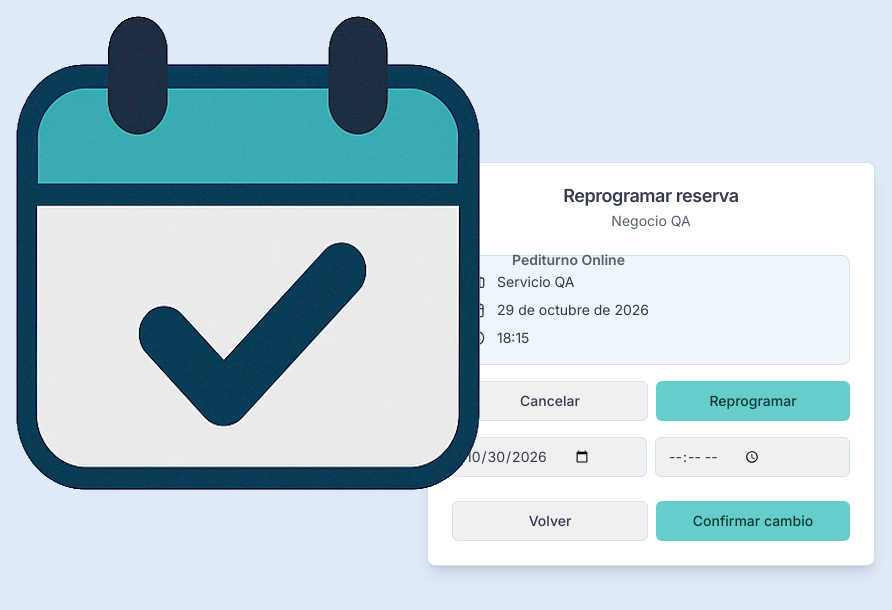
public appointment actions › keeps the requested reschedule and explains an occupied slot in Spanish
The image size is (892, 610).
Earlier steps of the test are not shown.
Type "18:15" into the time field named "Nueva hora" at (752, 457), box [655,437,850,477]
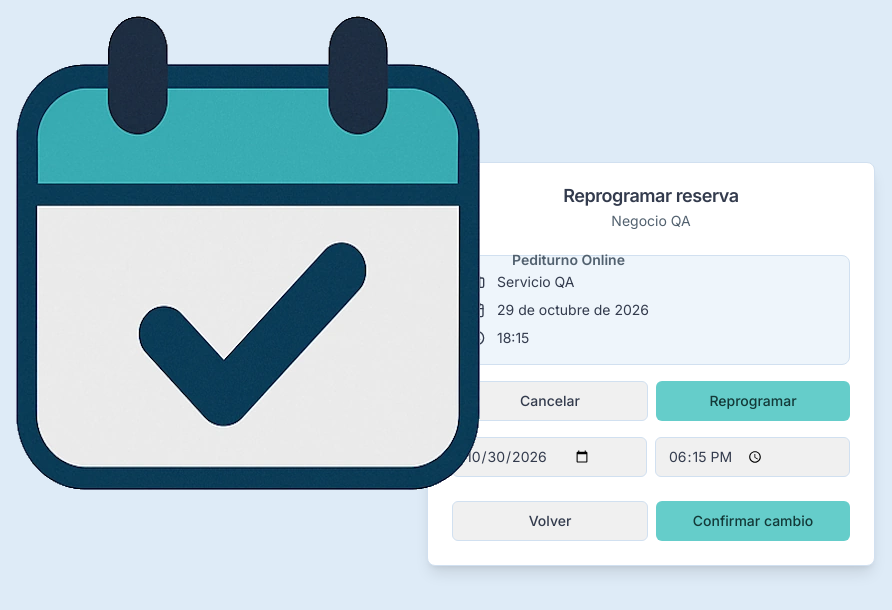
Click the button "Confirmar cambio" at (753, 521), box [656,501,850,541]
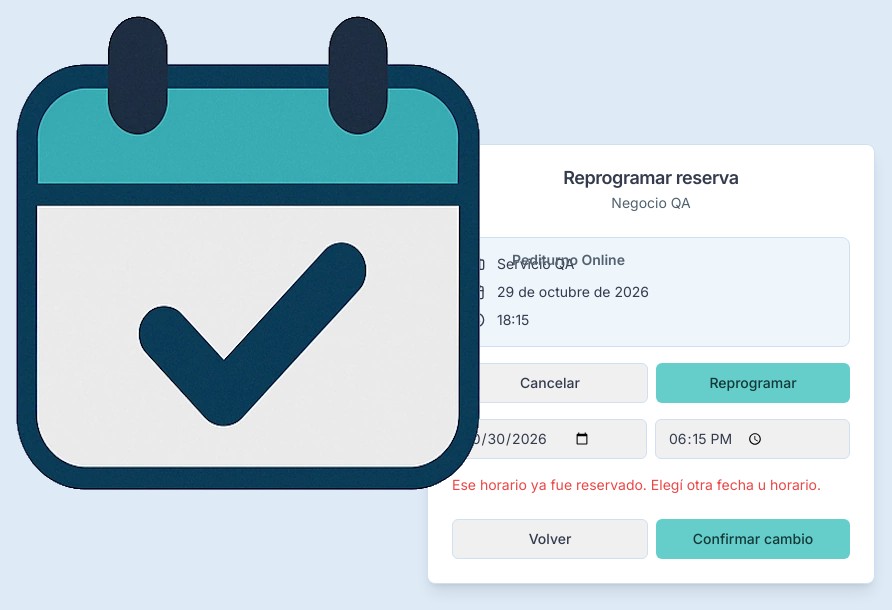
Result: the message reads "Ese horario ya fue reservado. Elegí otra fecha u horario." at [452,476,821,493]
